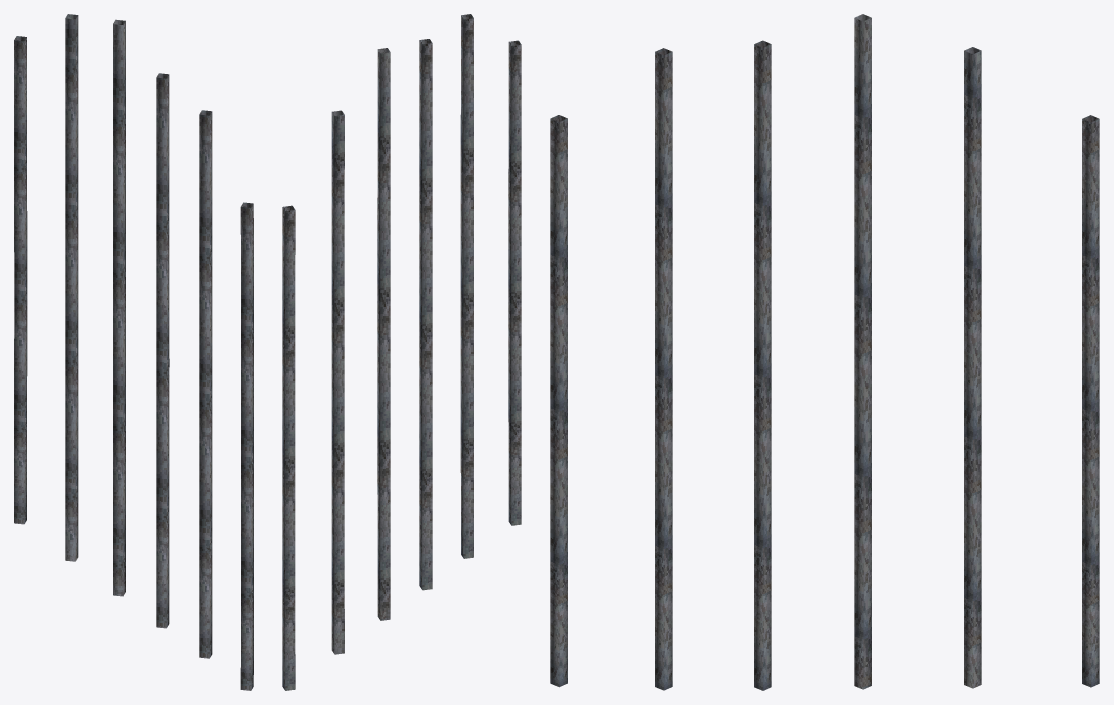
Rendered from INST_EKH_CAVERN_GATE.fbx.
3 views of the same model, side by side, from view 1: azimuth 30°, elevation 25°; view 2: azimuth 150°, elevation 25°; view 3: azimuth 270°, elevation 25° (orthographic). The views are drawn at different scales.
Parts seen in each view (by area): view 1: INST_EKH_CAVERN_GATE; view 2: INST_EKH_CAVERN_GATE; view 3: INST_EKH_CAVERN_GATE.
Boxes of the visible parts, x1,y1,x2,y2 form: INST_EKH_CAVERN_GATE: [14, 14, 253, 690]; INST_EKH_CAVERN_GATE: [282, 14, 521, 690]; INST_EKH_CAVERN_GATE: [550, 14, 1099, 690].
Size of the model in its own units: 756 by 24952 by 18568.
1 material, 1 textured.
